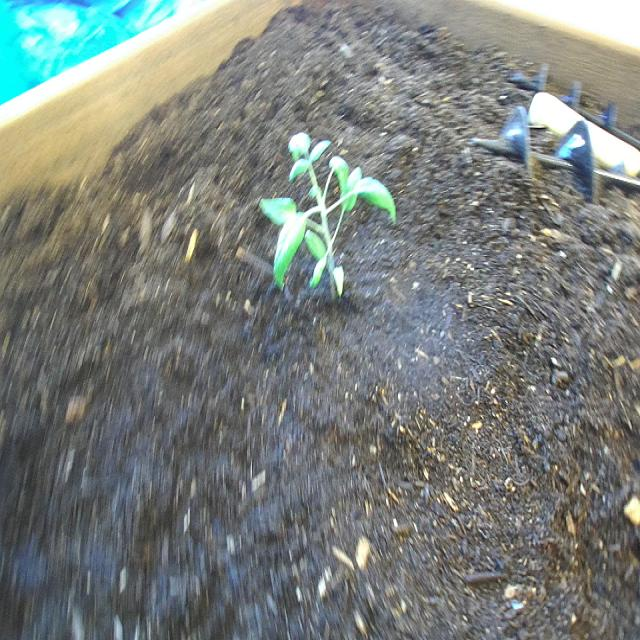Healthy: (252, 113, 404, 314)
